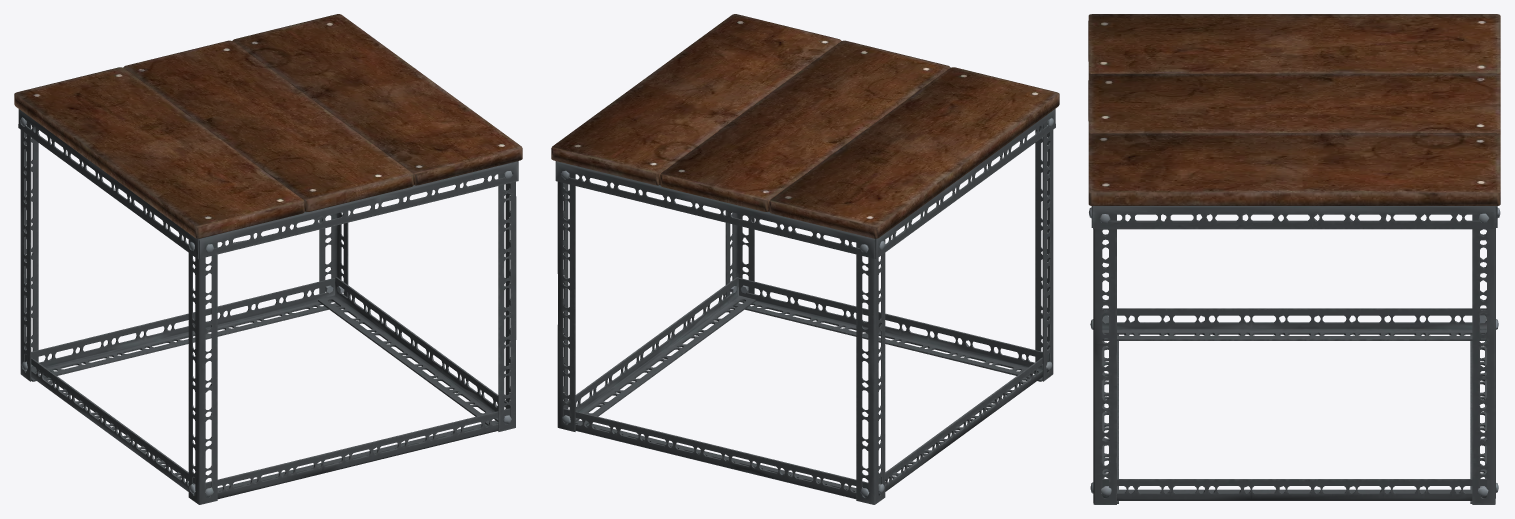
File: industrial_coffee_table.glb
The picture shows the model from 3 angles, left to right: view 1: azimuth 30°, elevation 25°; view 2: azimuth 150°, elevation 25°; view 3: azimuth 270°, elevation 25°; orthographic projection. The views are drawn at different scales.
Parts seen in each view (by area): view 1: industrial_coffee_table; view 2: industrial_coffee_table; view 3: industrial_coffee_table.
Part boxes in pixels (left/top/right/bottom): industrial_coffee_table: left=14, top=14, right=522, bottom=504; industrial_coffee_table: left=551, top=14, right=1059, bottom=504; industrial_coffee_table: left=1088, top=14, right=1500, bottom=504.
Bounding box in the file's own units: 0.7773 × 0.6375 × 0.7575.
Materials: 1 (1 with a texture image).
